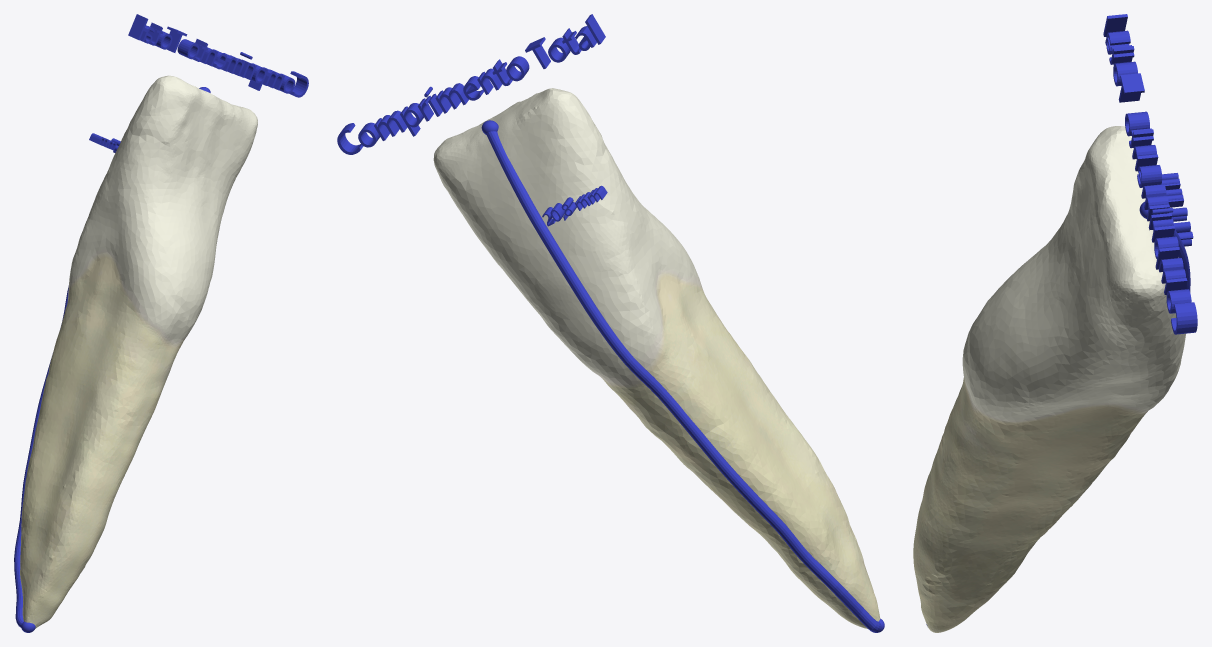
Rendered from 31 - Comprimento Total.glb.
3 renders of one model, left to right at view 1: azimuth 30°, elevation 25°; view 2: azimuth 150°, elevation 25°; view 3: azimuth 270°, elevation 25°, orthographic. The views are drawn at different scales.
Parts seen in each view (by area): view 1: 3MFMeshParent_0, 3MFMeshParent_1, 3MFMeshParent_3; view 2: 3MFMeshParent_0, 3MFMeshParent_3, 3MFMeshParent_1, 3MFMeshParent_2; view 3: 3MFMeshParent_0, 3MFMeshParent_1, 3MFMeshParent_2.
Part boxes in pixels (<box>): 3MFMeshParent_0: <box>20,75,257,628</box>; 3MFMeshParent_1: <box>128,14,308,97</box>; 3MFMeshParent_3: <box>14,285,68,627</box>; 3MFMeshParent_0: <box>433,88,880,628</box>; 3MFMeshParent_3: <box>486,131,881,632</box>; 3MFMeshParent_1: <box>337,14,605,154</box>; 3MFMeshParent_2: <box>542,185,607,226</box>; 3MFMeshParent_0: <box>913,126,1185,632</box>; 3MFMeshParent_1: <box>1103,14,1197,334</box>; 3MFMeshParent_2: <box>1161,173,1193,246</box>.
Bounding box in the file's own units: 0.4401 × 0.5913 × 0.2067.
2 materials, 1 textured.
